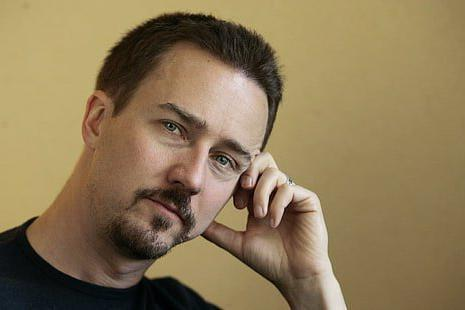Sober: (123, 52, 239, 246)
